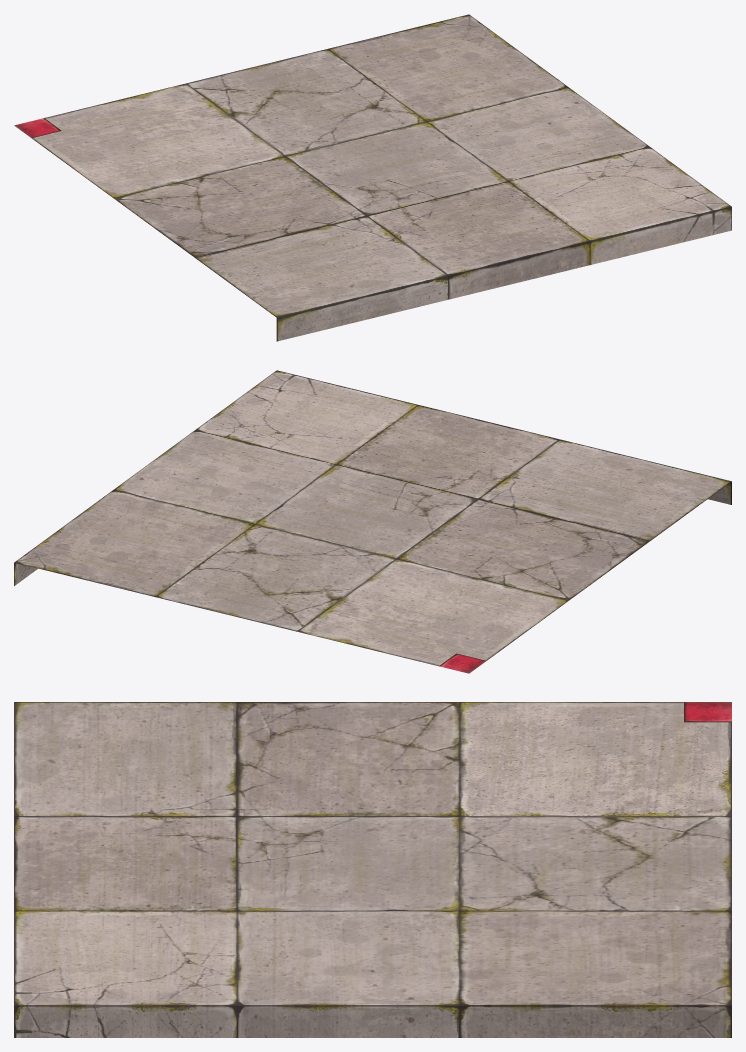
The model's file is sidewalk02_corner_B.fbx.
3 renders of one model, top to bottom at view 1: azimuth 30°, elevation 25°; view 2: azimuth 150°, elevation 25°; view 3: azimuth 270°, elevation 25°, orthographic. The views are drawn at different scales.
Visible parts, largest first — view 1: sidewalk02_corner_B; view 2: sidewalk02_corner_B; view 3: sidewalk02_corner_B.
Boxes of the visible parts, <box> form: sidewalk02_corner_B: <box>14,14,731,341</box>; sidewalk02_corner_B: <box>14,370,731,673</box>; sidewalk02_corner_B: <box>14,702,731,1037</box>.
Bounding box in the file's own units: 300 × 15 × 300.
